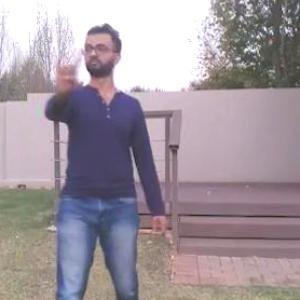takeoff-hand: (47, 47, 86, 95)
